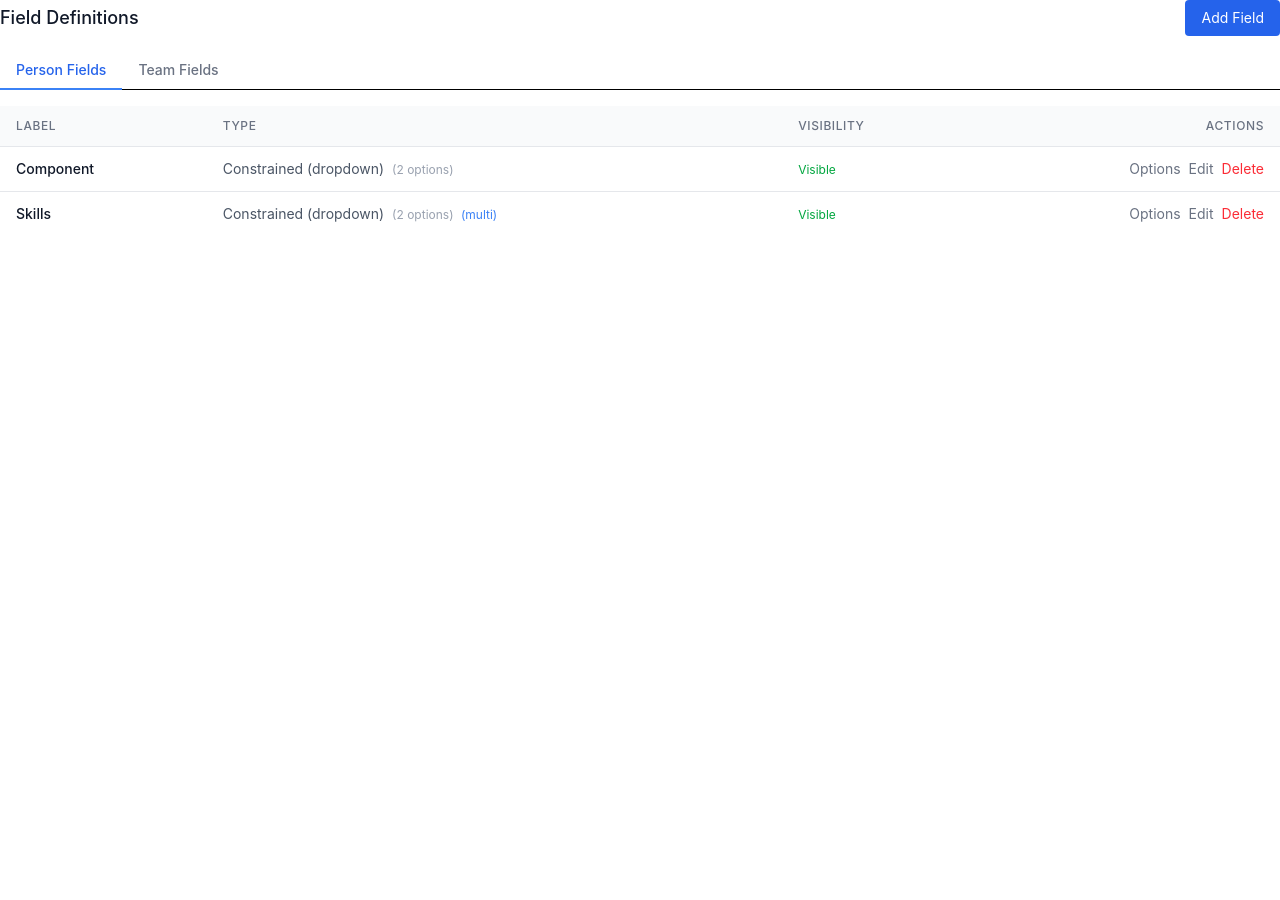
Test: FieldDefinitionManager › opens create modal on Add Field click
This screenshot has width=1280, height=900.
Step 1. Click the button "Add Field" → click(1233, 18), box [1186,0,1279,36]
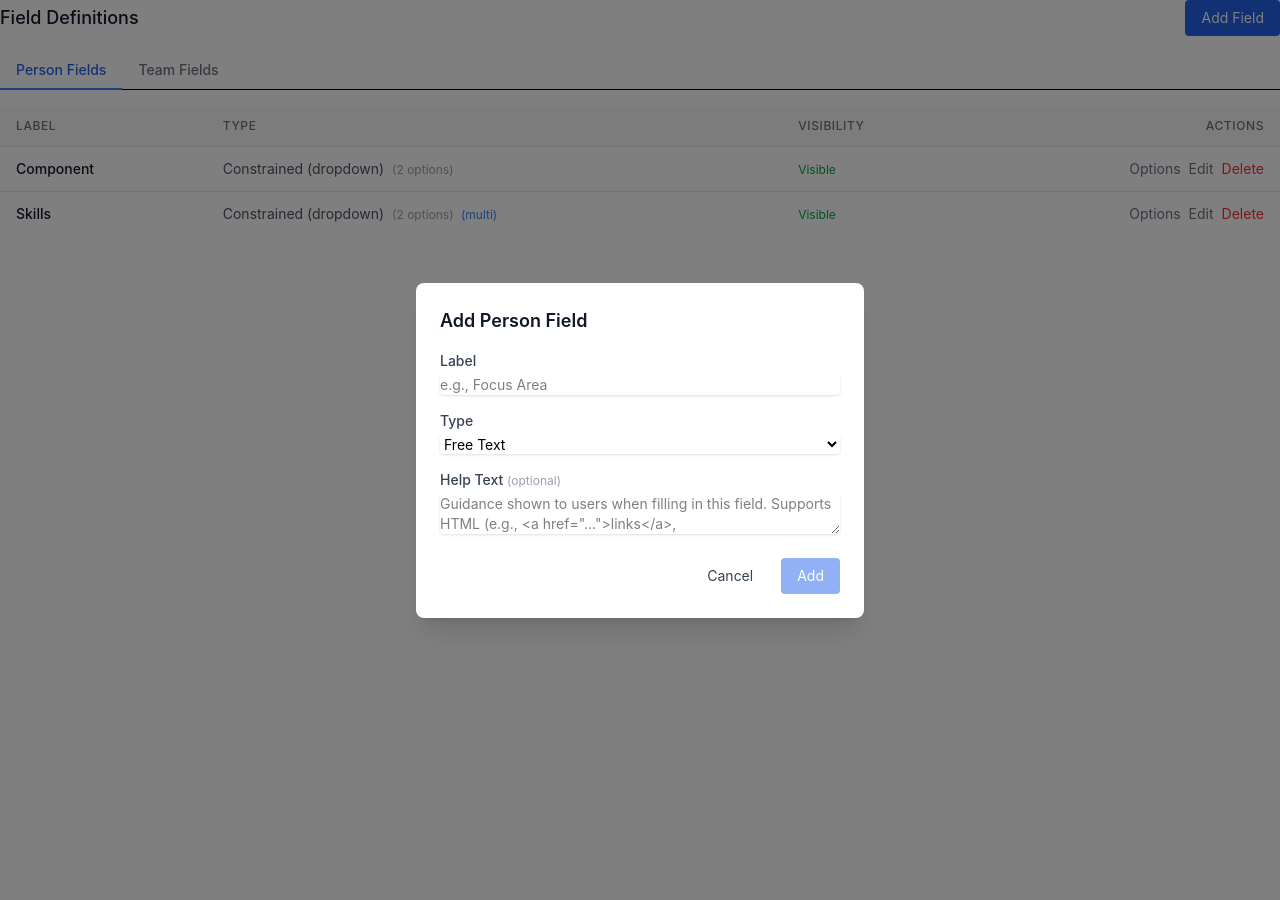
Check: the text "Add Person Field" is shown, box [440,310,587,330]
